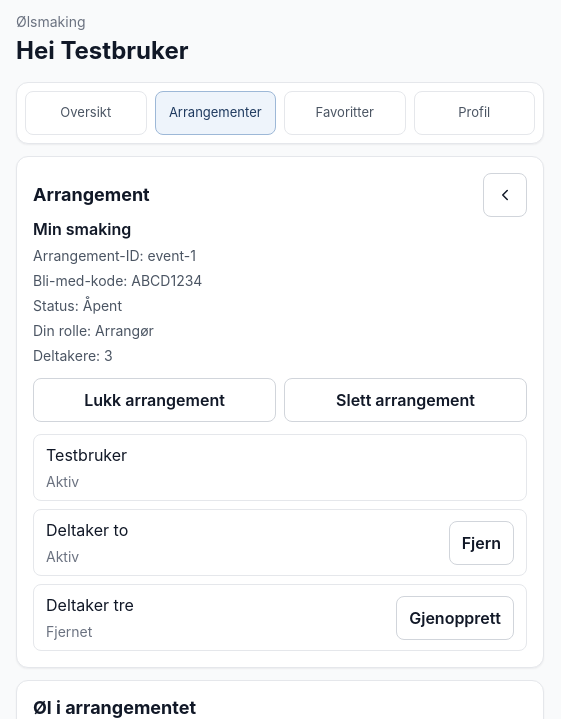
App core flows › deletes event when confirmed
Check: the text "Bli-med-kode: ABCD1234" is shown, box [33,272,202,289]
Step 1. Click the button "Slett arrangement" → (406, 400), box [284,378,527,422]
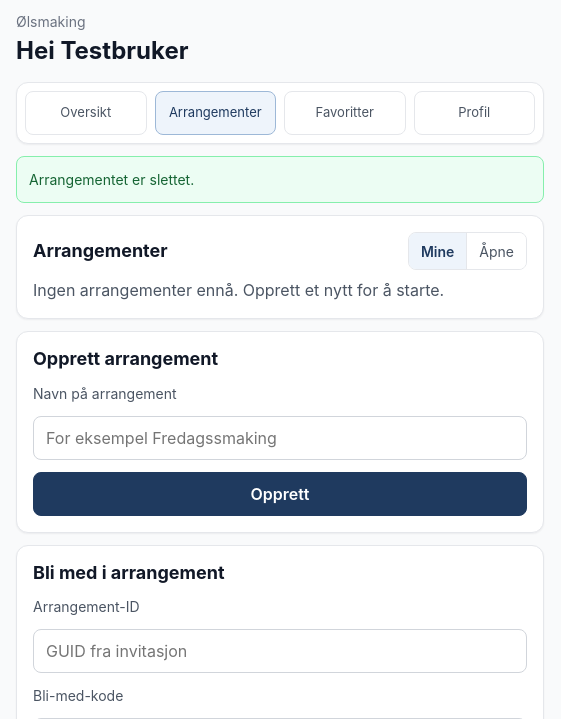
Check: the text "Arrangementet er slettet." is shown, box [16,156,544,203]
Check: the text "Bli-med-kode: ABCD1234" is gone
